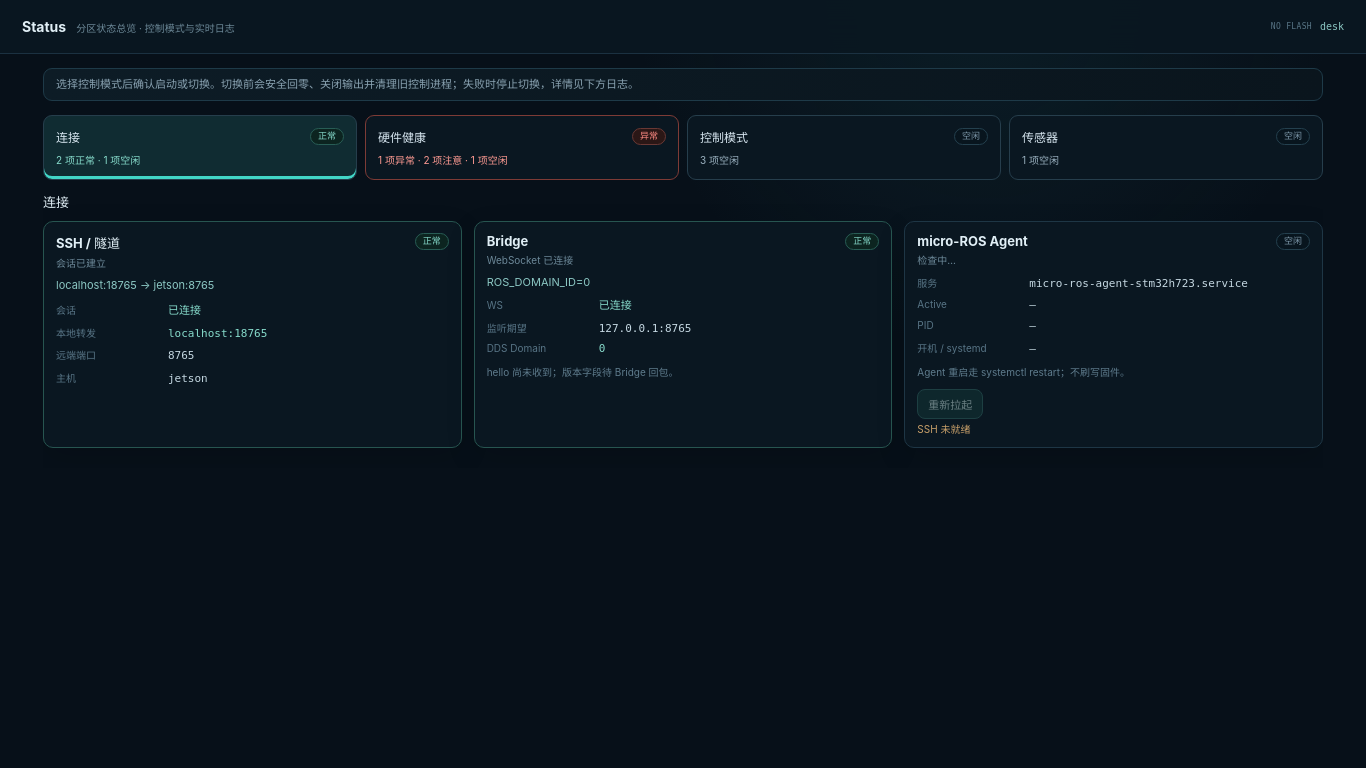
Test: StatusPage › surfaces disabledReasons as on-page hints for gated quick actions
Click the tab "控制模式". click: (724, 138)
box: [687, 115, 1001, 180]
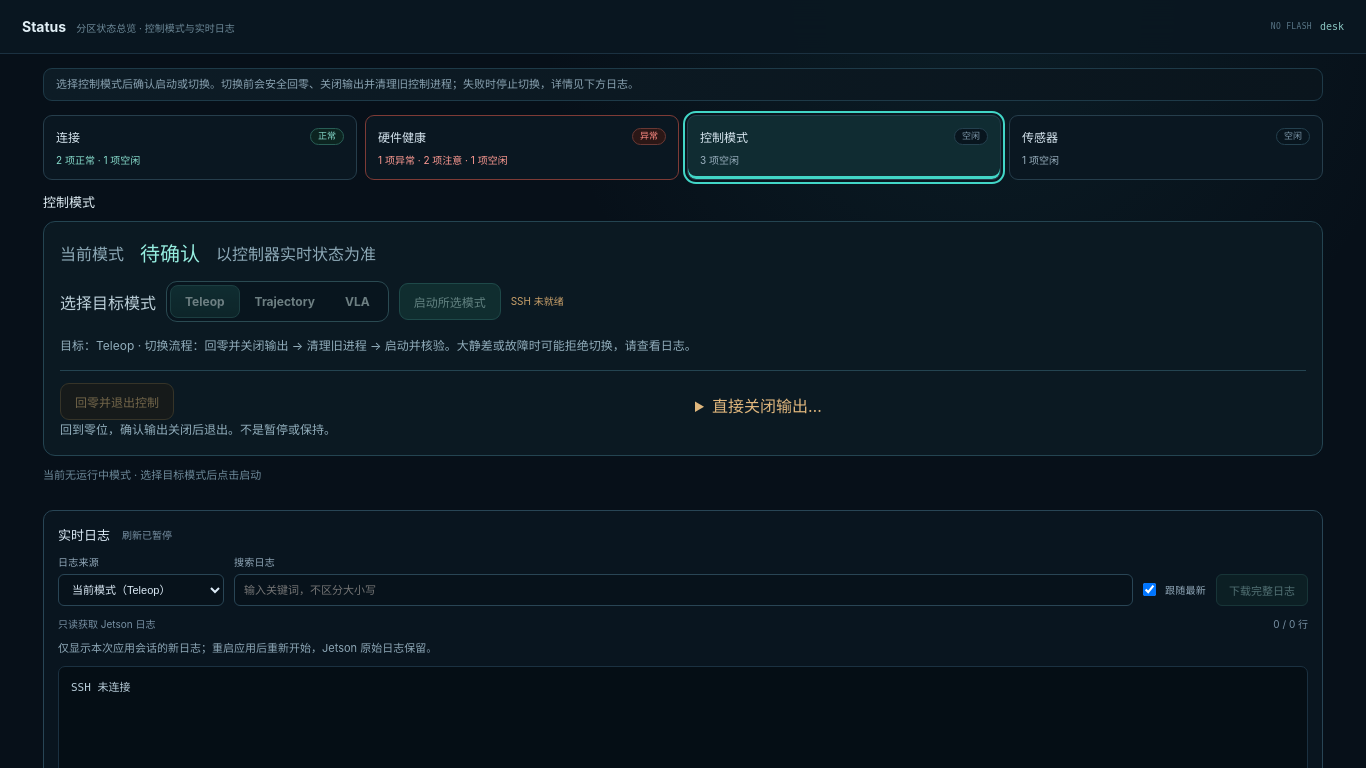
Expected: the text with test id "status-mode-disabled" reads "SSH 未就绪", [511, 295, 564, 307]
Expected: the button "Teleop" is disabled, [170, 285, 240, 318]
Click the tab "硬件健康". click: (402, 138)
box: [365, 115, 679, 180]
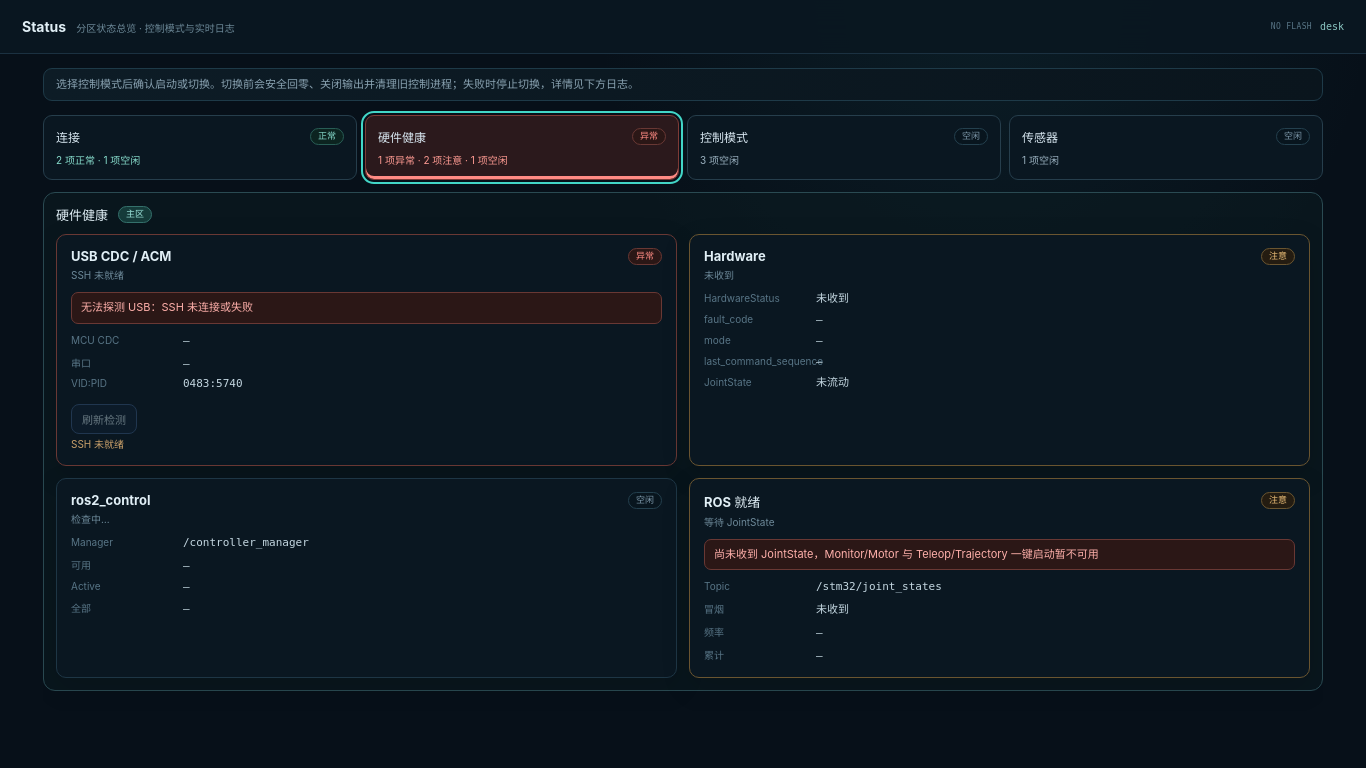
Expected: the text with test id "status-disabled-usb-usb-refresh" reads "SSH 未就绪", [71, 438, 124, 450]
